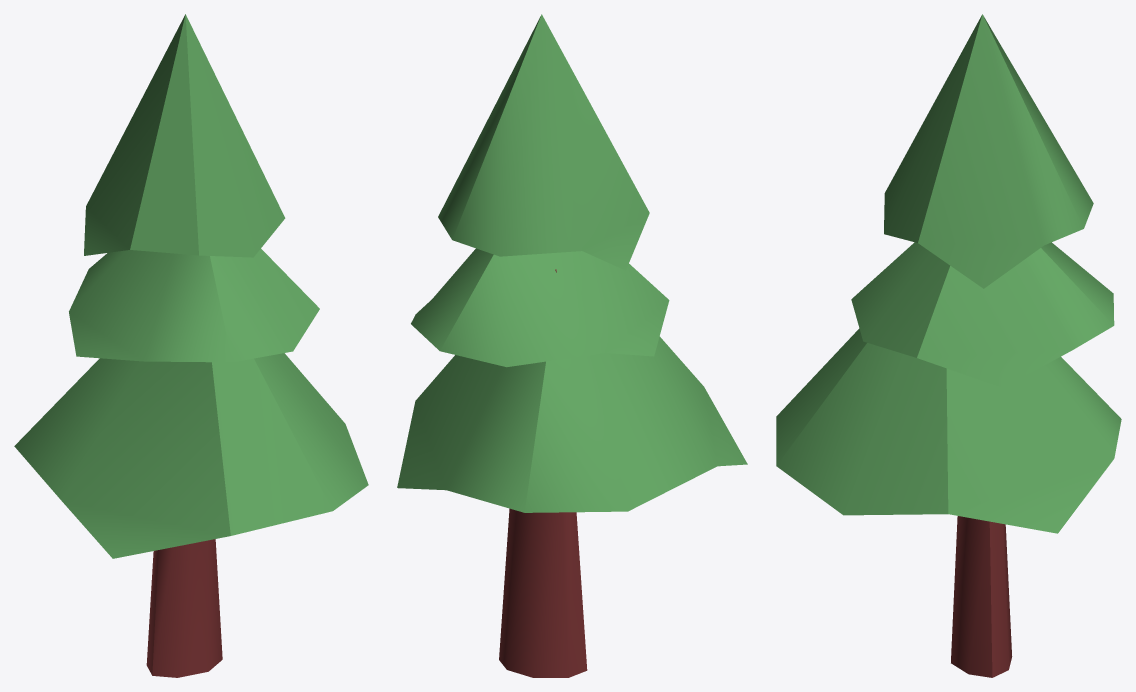
Rendered from pine_02.glb.
The picture shows the model from 3 angles, left to right: view 1: azimuth 30°, elevation 25°; view 2: azimuth 150°, elevation 25°; view 3: azimuth 270°, elevation 25°; orthographic projection.
Parts seen in each view (by area): view 1: default1_Material_0; view 2: default1_Material_0; view 3: default1_Material_0.
Part boxes in pixels (x1,y1,x2,y2): default1_Material_0: [14, 14, 368, 677]; default1_Material_0: [397, 14, 747, 677]; default1_Material_0: [776, 14, 1121, 677].
Bounding box in the file's own units: 0.0259 × 0.0549 × 0.0266.
Materials: 1 (1 with a texture image).
